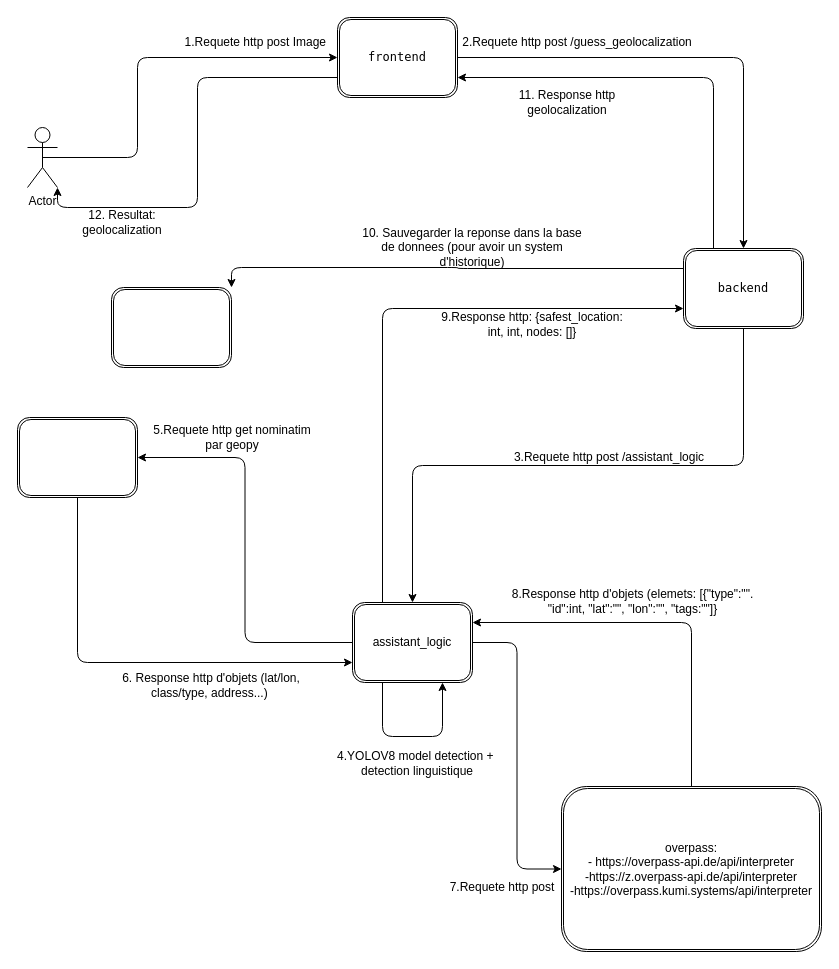
Some shapes in this 839 by 969 pixel diagram are drawn without their labels. The shapes that lost their labels are listed below. From the top down, each one's centre as x and y in pixels, then its label:
the point at 171,327: sql database
the point at 77,457: nominatim
